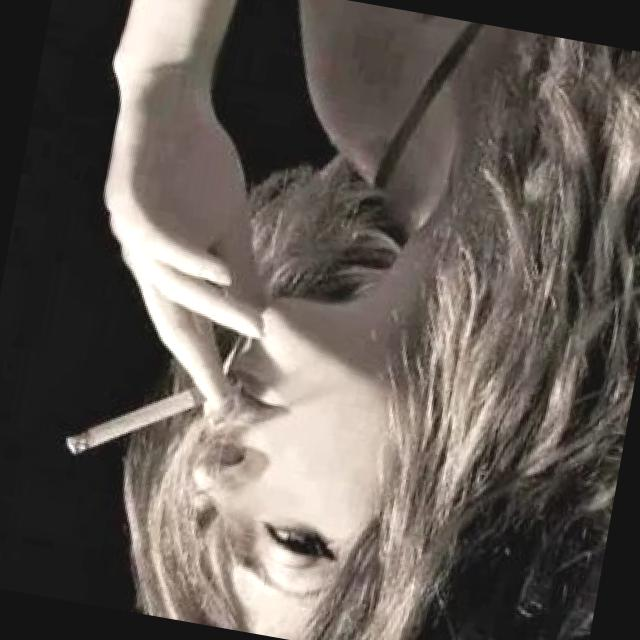cigarette: (61, 358, 218, 479)
